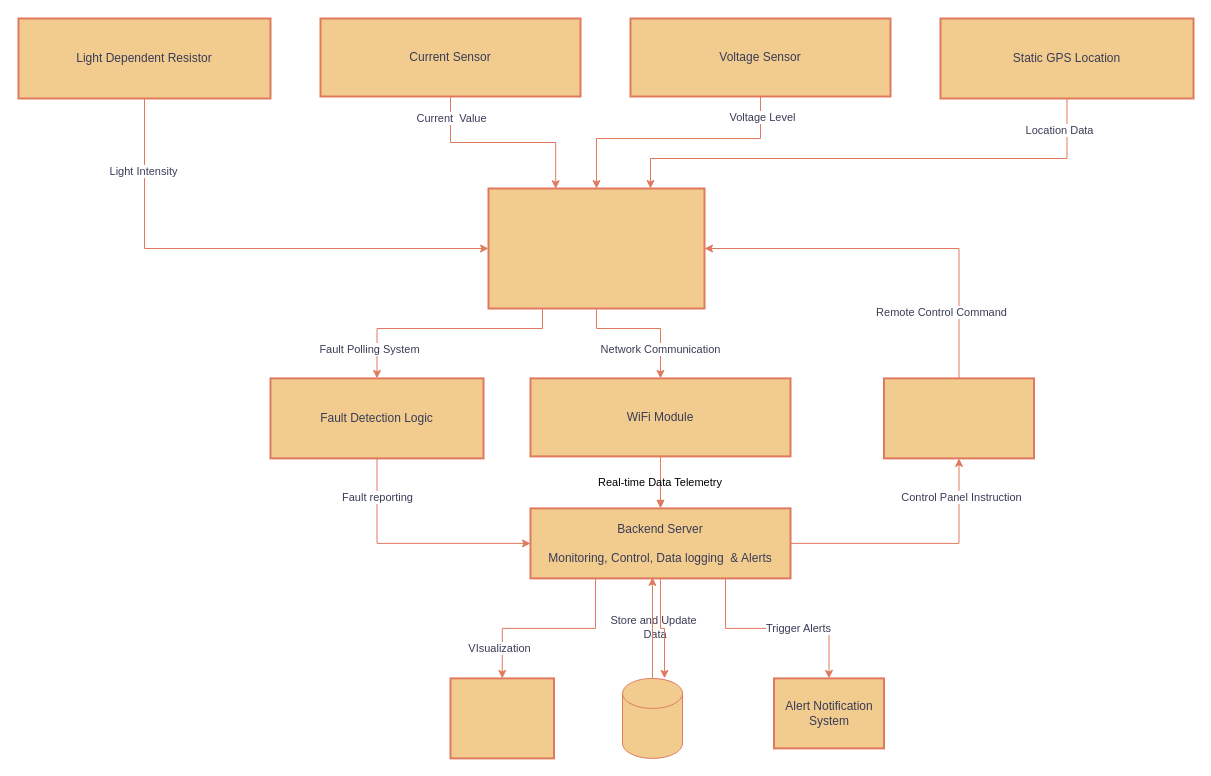
Some shapes in this 1211 by 776 pixel diagram are drawn without their labels. Each missing label, with the box of its shape:
Dashboard User Interface and Control Panel: (449, 677, 554, 759)
ESP32 Microcontroller: (487, 187, 705, 309)
Remote Control Logic: (882, 377, 1034, 459)
SQL Database: (622, 677, 682, 758)
